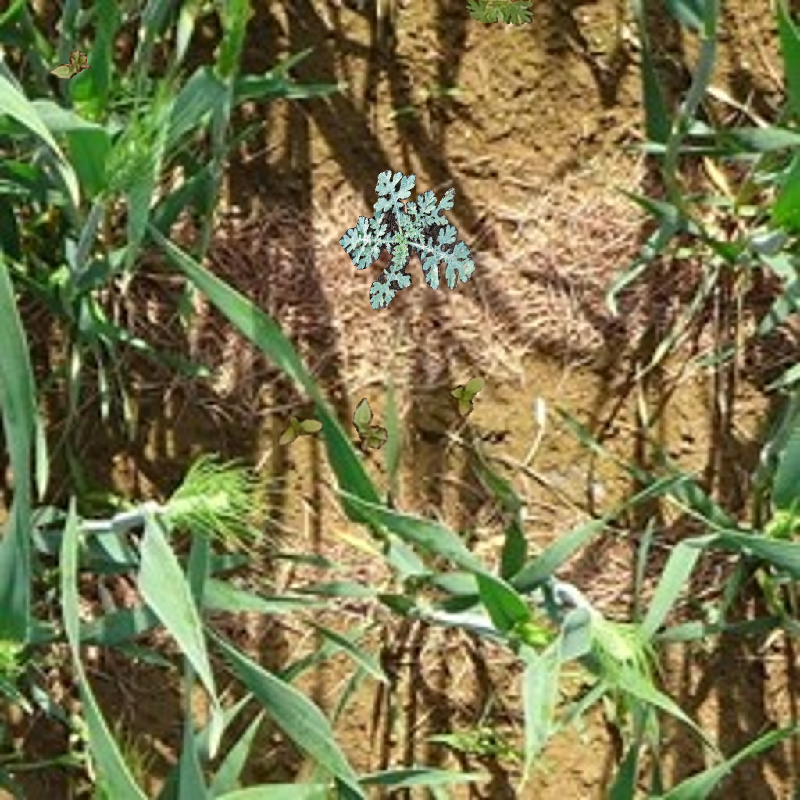spikelet: (161, 472, 259, 524), (104, 106, 155, 191), (596, 621, 648, 678)
weed: (337, 169, 476, 306), (271, 403, 325, 459), (347, 396, 394, 456), (446, 373, 497, 420), (462, 1, 542, 30), (50, 50, 91, 79)
